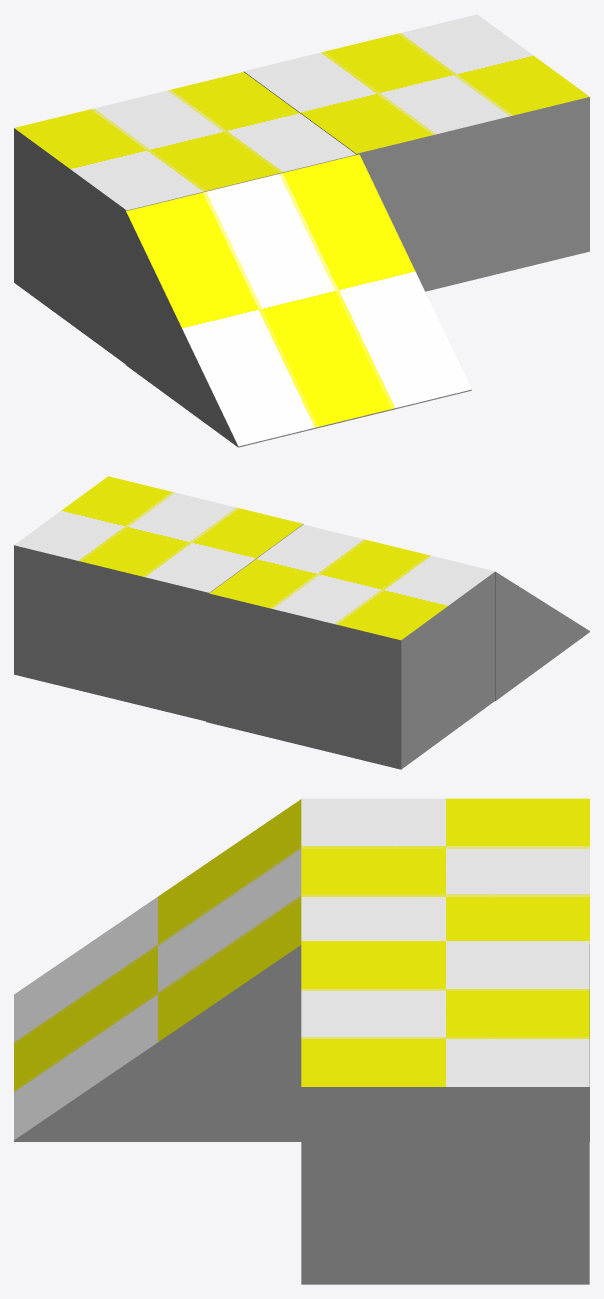
The model's file is area1.fbx.
The picture shows the model from 3 angles, top to bottom: view 1: azimuth 30°, elevation 25°; view 2: azimuth 150°, elevation 25°; view 3: azimuth 270°, elevation 25°; orthographic projection. The views are drawn at different scales.
Visible parts, largest first — view 1: pasted__pCube1, pCube1, pasted__pasted__pCube1; view 2: pasted__pasted__pCube1, pCube1, pasted__pCube1; view 3: pCube1, pasted__pCube1, pasted__pasted__pCube1.
Boxes of the visible parts, x1,y1,x2,y2 form: pasted__pCube1: (125, 154, 471, 447); pCube1: (243, 14, 589, 291); pasted__pasted__pCube1: (14, 72, 356, 363); pasted__pasted__pCube1: (206, 524, 494, 769); pCube1: (14, 476, 303, 721); pasted__pCube1: (495, 571, 589, 700); pCube1: (301, 941, 589, 1284); pasted__pCube1: (14, 798, 302, 1141); pasted__pasted__pCube1: (301, 798, 589, 1141).
Size of the model in its own units: 13 by 4.16 by 10.93.
Materials: 4 (3 with a texture image).
